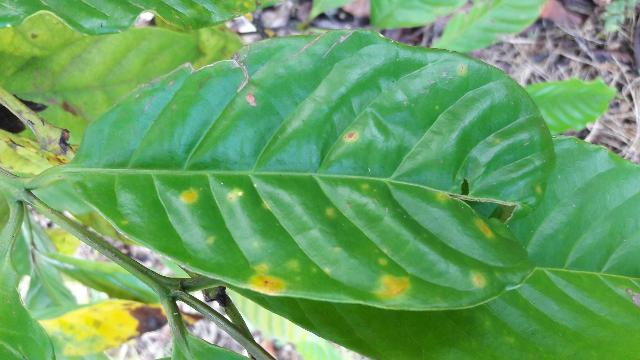rust_level_2: (59, 31, 554, 310)
